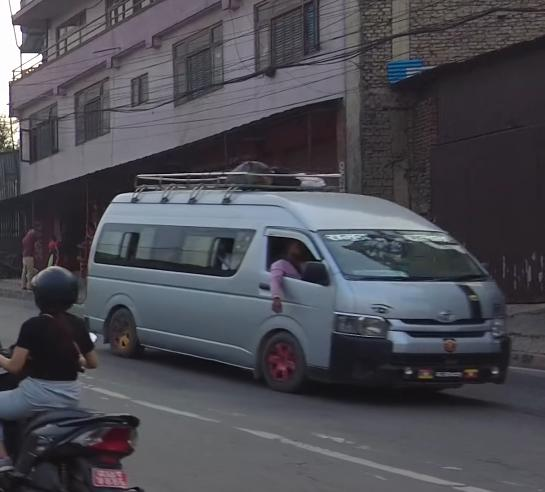micro_bus: (81, 166, 511, 404)
scooter: (0, 340, 143, 492)
